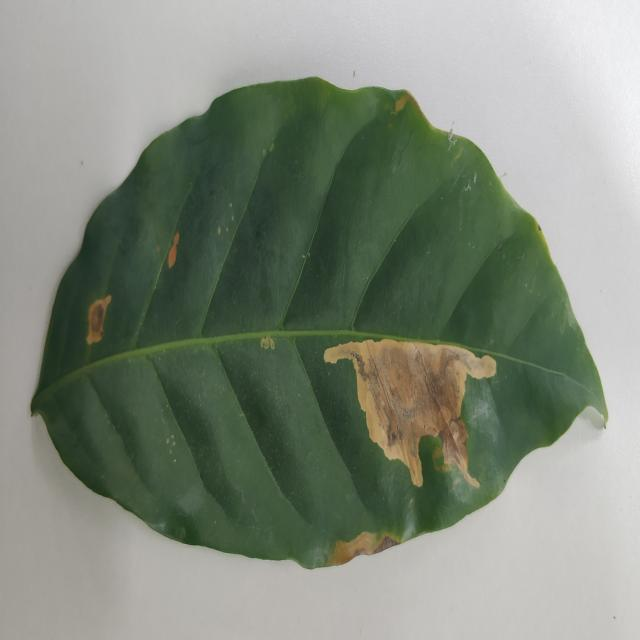Plaga-Minador: (30, 77, 610, 572)
